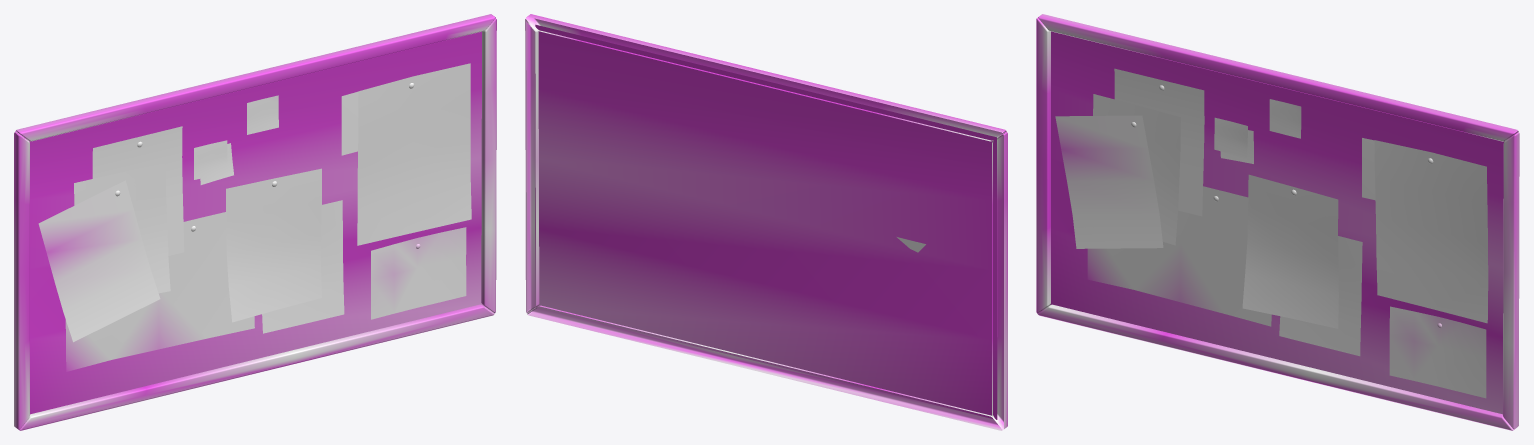
Rendered from SM_Board_A1.fbx.
The picture shows the model from 3 angles, left to right: view 1: azimuth 30°, elevation 25°; view 2: azimuth 150°, elevation 25°; view 3: azimuth 330°, elevation 25°; orthographic projection.
Parts seen in each view (by area): view 1: SM_Board_A1_LOD0; view 2: SM_Board_A1_LOD0; view 3: SM_Board_A1_LOD0.
Part boxes in pixels (x1=…): SM_Board_A1_LOD0: x1=14, y1=14, x2=496, y2=430; SM_Board_A1_LOD0: x1=525, y1=14, x2=1007, y2=430; SM_Board_A1_LOD0: x1=1036, y1=14, x2=1519, y2=430.
Size of the model in its own units: 142 by 6.27 by 84.33.
